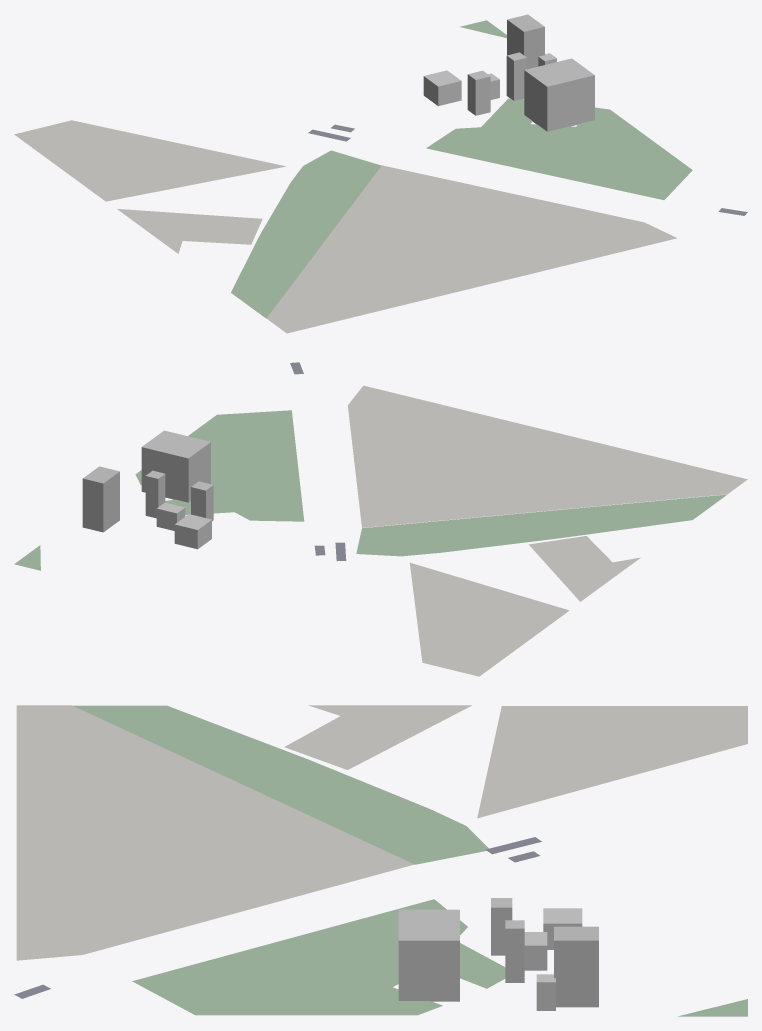
File: 103_110_mid.glb
3 renders of one model, top to bottom at view 1: azimuth 30°, elevation 25°; view 2: azimuth 150°, elevation 25°; view 3: azimuth 270°, elevation 25°, orthographic. The views are drawn at different scales.
Size of the model in its own units: 500 by 50.49 by 502.
